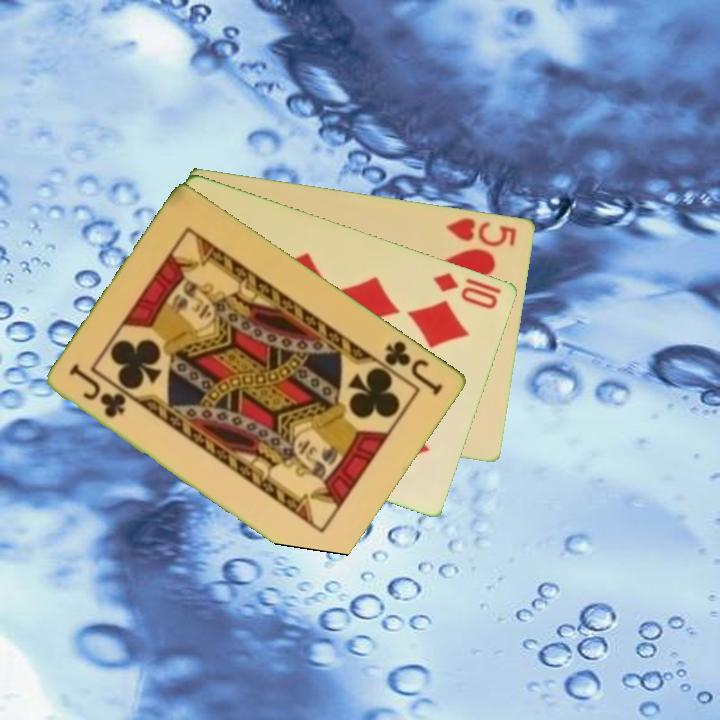10d: (430, 268, 505, 312)
5h: (443, 214, 520, 250)
Jc: (381, 337, 447, 399), (66, 361, 130, 421)
